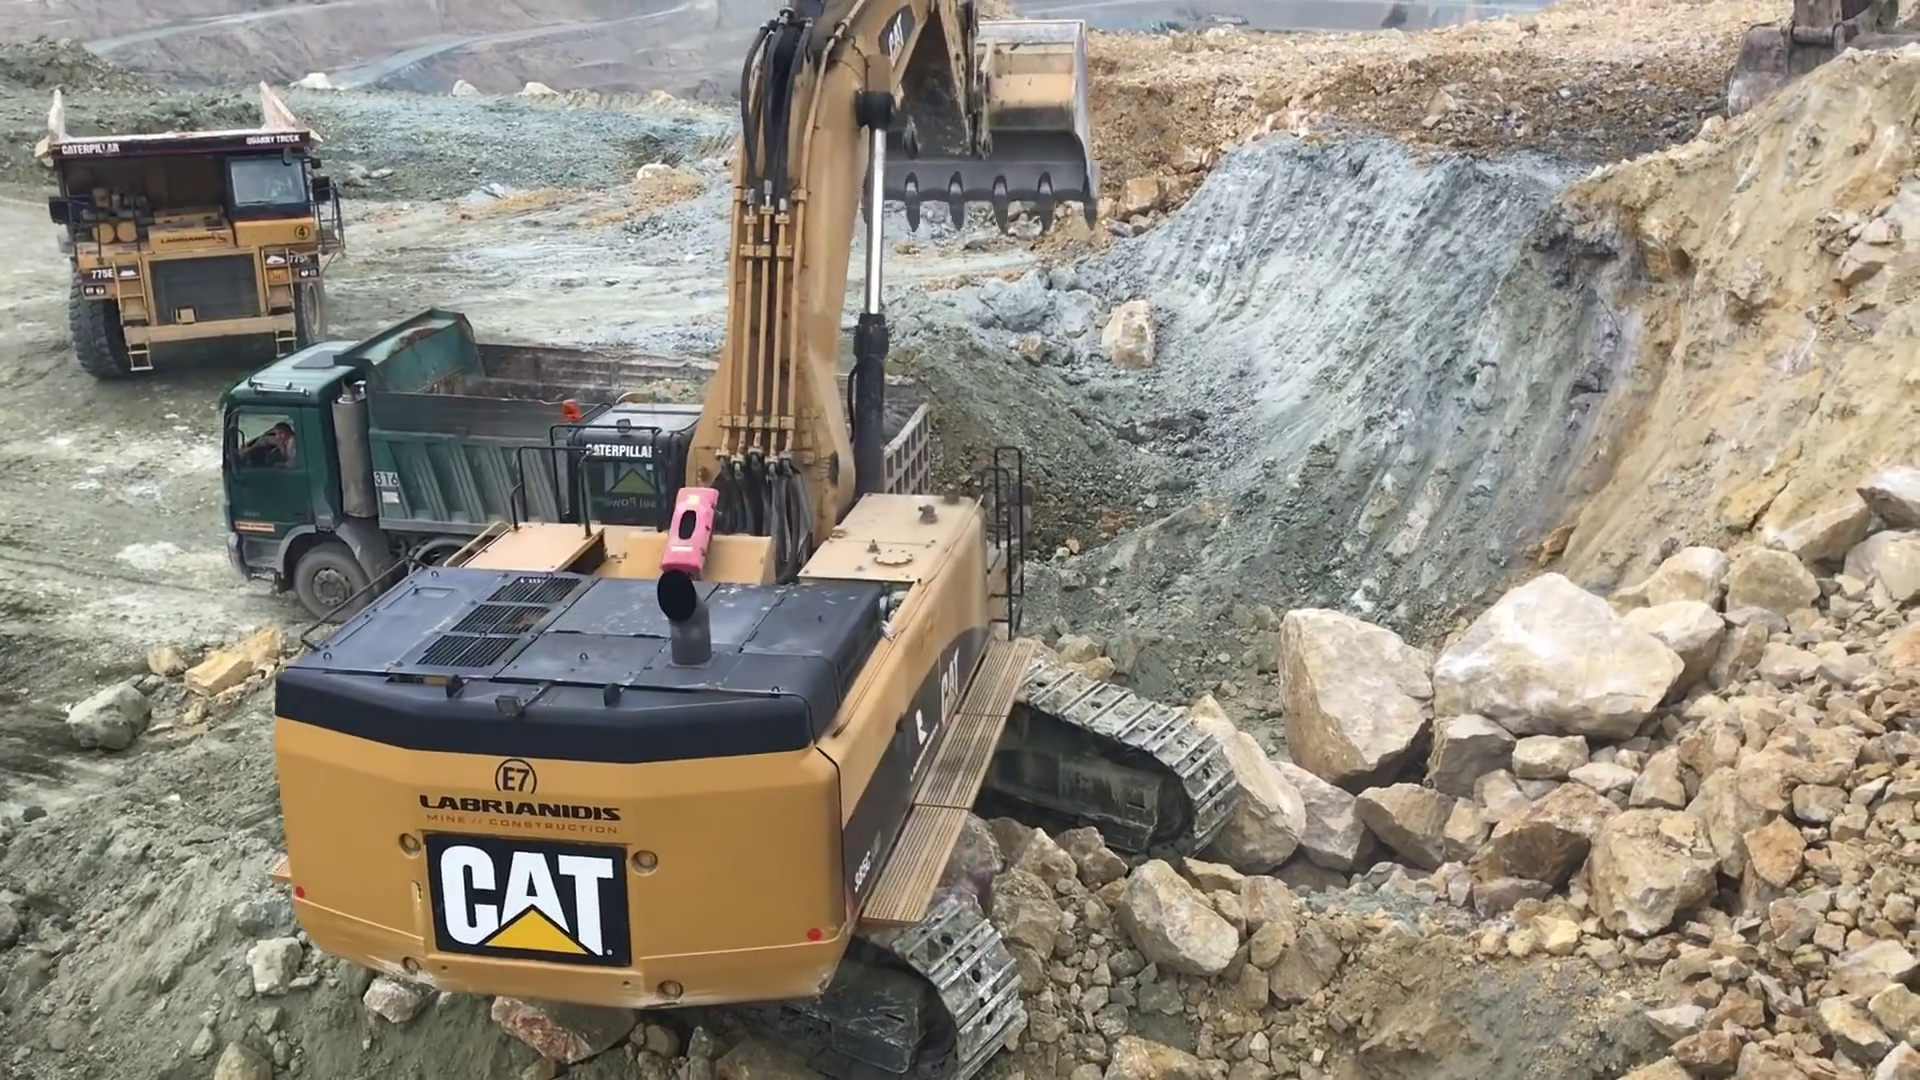dumper: (32, 79, 324, 369)
excavator: (272, 11, 1237, 1064)
truck: (222, 306, 932, 626)
